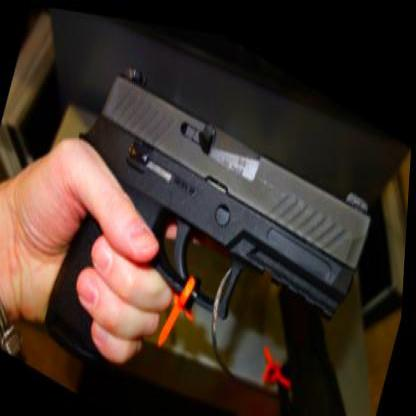pistol: (27, 27, 384, 413)
